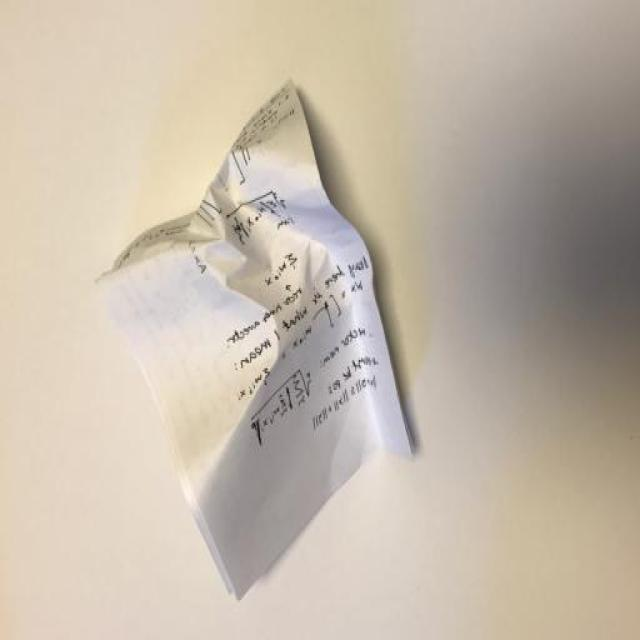kertas: (91, 76, 416, 605)
